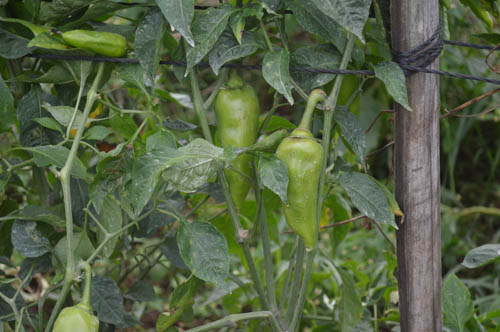ChiliPepper: (278, 139, 321, 245), (220, 88, 257, 207), (62, 30, 128, 57)
